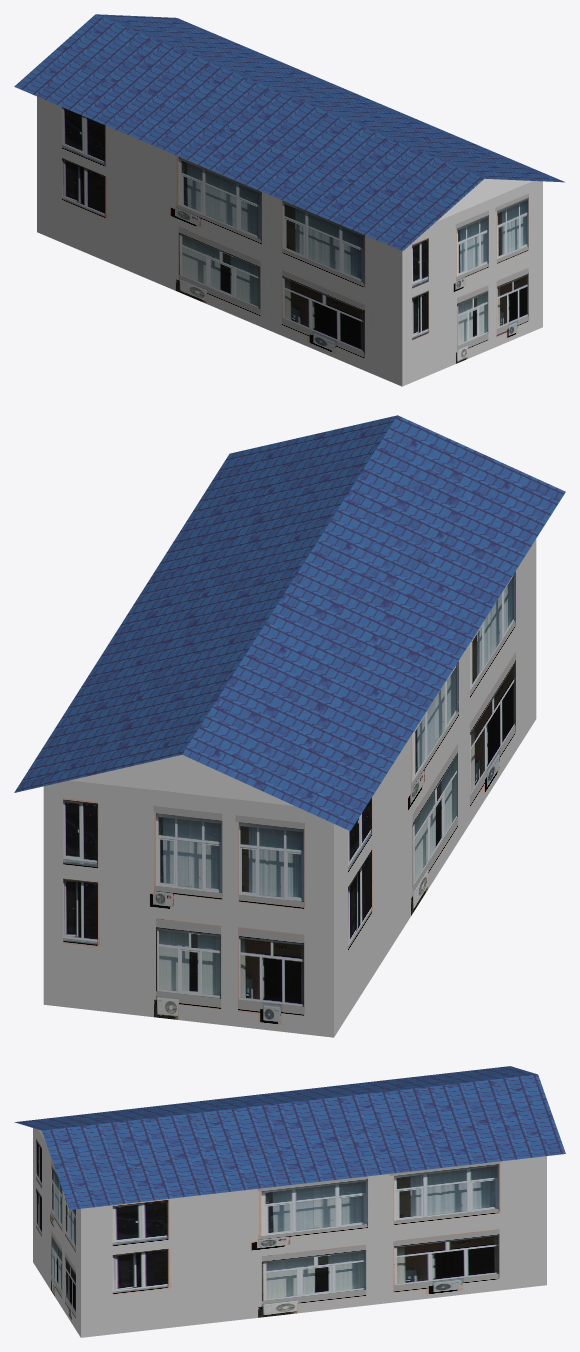
3 renders of one model, top to bottom at view 1: azimuth 30°, elevation 25°; view 2: azimuth 150°, elevation 25°; view 3: azimuth 270°, elevation 25°, orthographic. The views are drawn at different scales.
Parts seen in each view (by area): view 1: CityEngineMaterial_9_m, CityEngineMaterial_10_m, CityEngineMaterial_3_m; view 2: CityEngineMaterial_10_m, CityEngineMaterial_9_m, CityEngineMaterial_3_m; view 3: CityEngineMaterial_9_m, CityEngineMaterial_10_m.
Part boxes in pixels (x1=…): CityEngineMaterial_9_m: x1=37, y1=96, x2=542, y2=386; CityEngineMaterial_10_m: x1=14, y1=14, x2=564, y2=250; CityEngineMaterial_3_m: x1=436, y1=178, x2=532, y2=221; CityEngineMaterial_10_m: x1=14, y1=415, x2=565, y2=830; CityEngineMaterial_9_m: x1=43, y1=539, x2=536, y2=1037; CityEngineMaterial_3_m: x1=70, y1=755, x2=294, y2=805; CityEngineMaterial_9_m: x1=33, y1=1128, x2=546, y2=1337; CityEngineMaterial_10_m: x1=14, y1=1066, x2=565, y2=1209.
Size of the model in its own units: 21.8 by 12.08 by 35.32.
